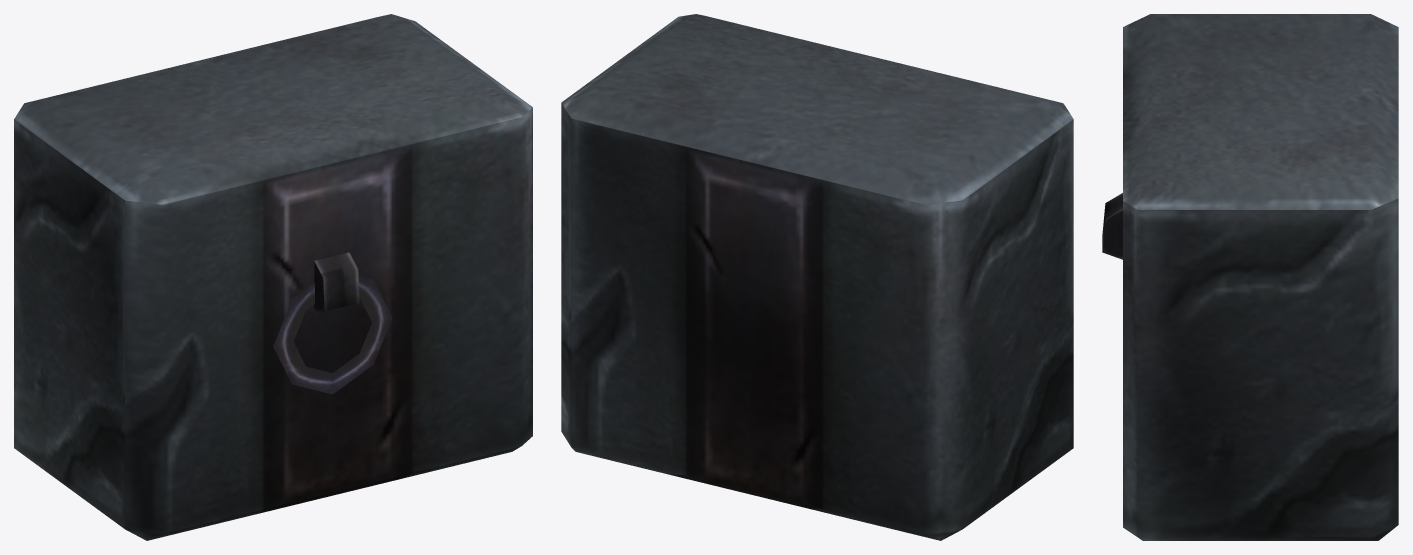
Rendered from B_shikuai003.fbx.
3 views of the same model, side by side, from view 1: azimuth 30°, elevation 25°; view 2: azimuth 150°, elevation 25°; view 3: azimuth 270°, elevation 25° (orthographic).
Visible parts, largest first — view 1: B_shikuai003; view 2: B_shikuai003; view 3: B_shikuai003.
Boxes of the visible parts, left/top/right/bottom form: B_shikuai003: left=14, top=14, right=532, bottom=540; B_shikuai003: left=561, top=14, right=1073, bottom=540; B_shikuai003: left=1102, top=14, right=1398, bottom=540.
Size of the model in its own units: 78.28 by 66.2 by 50.38.
